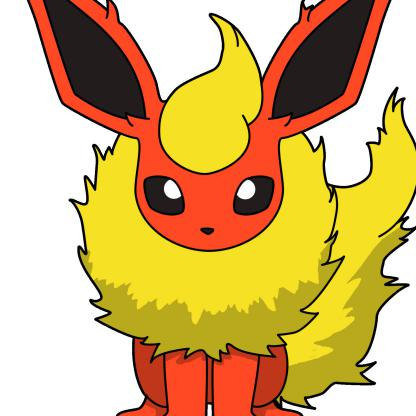Flareon: (23, 1, 416, 416)
